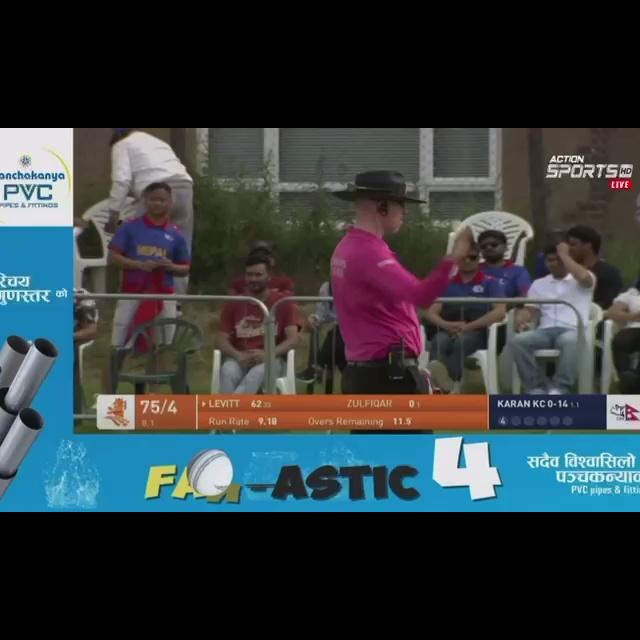umpire: (280, 154, 517, 386)
